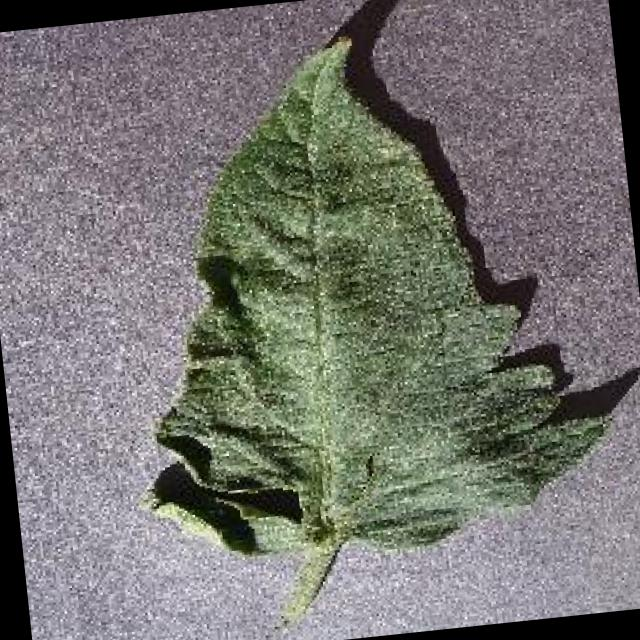Tomato_Healthy: (90, 5, 630, 565)
